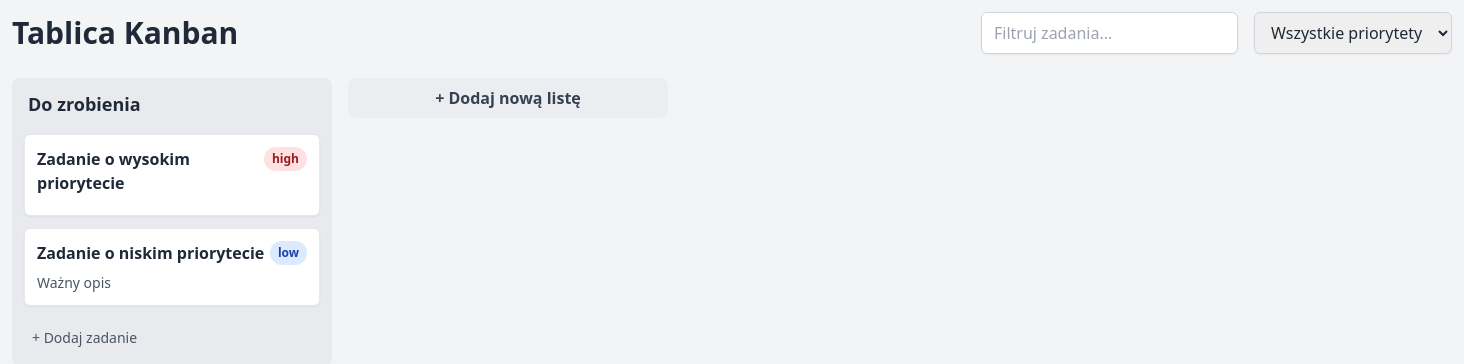
it: BoardPage › should filter cards by text input
Expected: the heading "Zadanie o wysokim priorytecie" is shown, x1=37 y1=148 x2=190 y2=194
Expected: the heading "Zadanie o niskim priorytecie" is shown, x1=37 y1=241 x2=264 y2=265
// Wpisujemy tekst w pole filtra
Step 1. Type "Ważny opis" into the field with placeholder "Filtruj zadania..." → (1110, 33), box x1=981 y1=12 x2=1238 y2=54
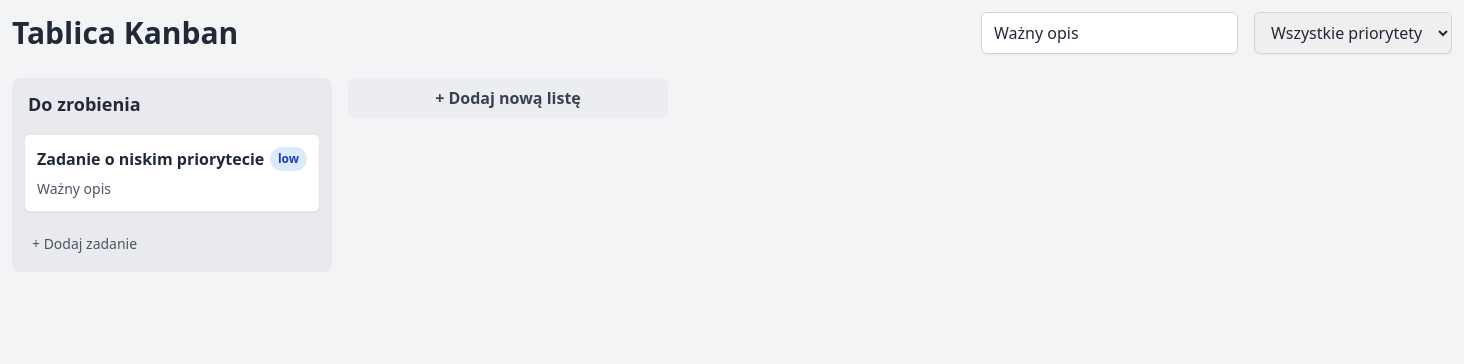
Expected: the heading "Zadanie o niskim priorytecie" is shown, x1=37 y1=147 x2=264 y2=171
Expected: the button "Zadanie o wysokim priorytecie" is gone
